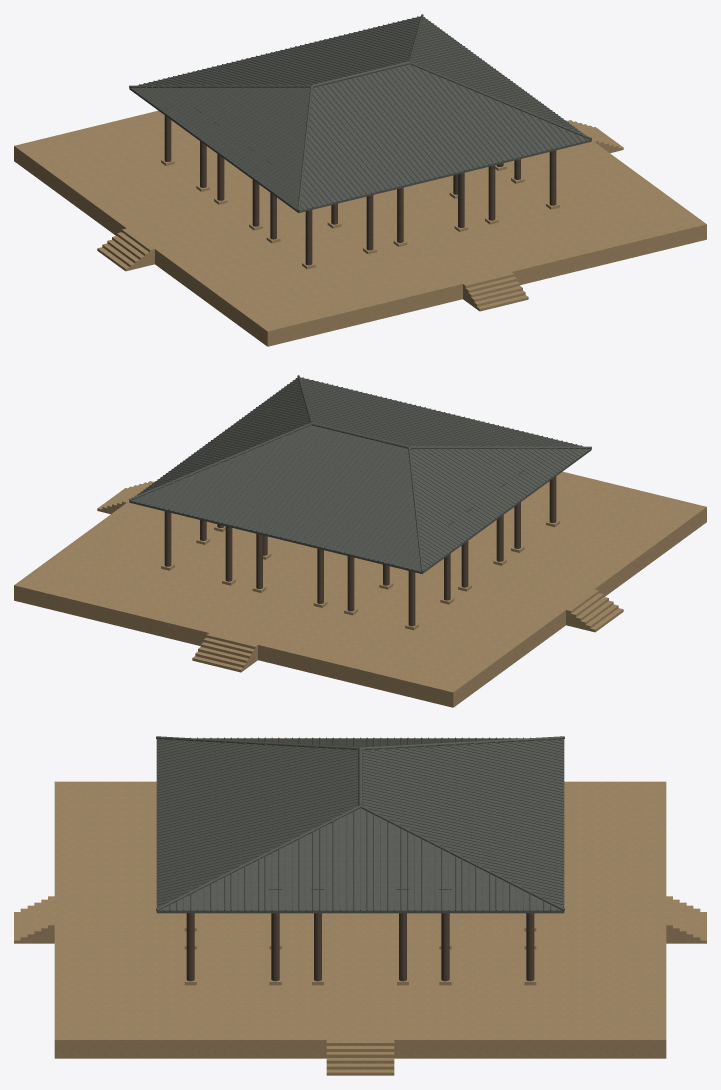
File: biyong-A-LOD0.glb
The picture shows the model from 3 angles, top to bottom: view 1: azimuth 30°, elevation 25°; view 2: azimuth 150°, elevation 25°; view 3: azimuth 270°, elevation 25°; orthographic projection. The views are drawn at different scales.
Parts seen in each view (by area): view 1: biyong-A-static_earth, biyong-A-static_tile, biyong-A-static_timber; view 2: biyong-A-static_earth, biyong-A-static_tile, biyong-A-static_timber; view 3: biyong-A-static_earth, biyong-A-static_tile, biyong-A-static_timber.
Boxes of the visible parts, x1,y1,x2,y2 form: biyong-A-static_earth: (14, 110, 706, 346); biyong-A-static_tile: (129, 14, 591, 212); biyong-A-static_timber: (164, 48, 556, 265); biyong-A-static_earth: (14, 471, 706, 707); biyong-A-static_tile: (129, 375, 591, 573); biyong-A-static_timber: (164, 409, 556, 626); biyong-A-static_earth: (14, 781, 706, 1075); biyong-A-static_tile: (156, 736, 564, 913); biyong-A-static_timber: (186, 740, 534, 981).
Size of the model in its own units: 40.8 by 9.96 by 40.8.
Materials: 3 (3 with a texture image).
